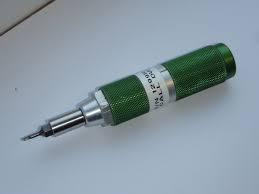screwdriver: (47, 42, 235, 140), (22, 121, 53, 142)
